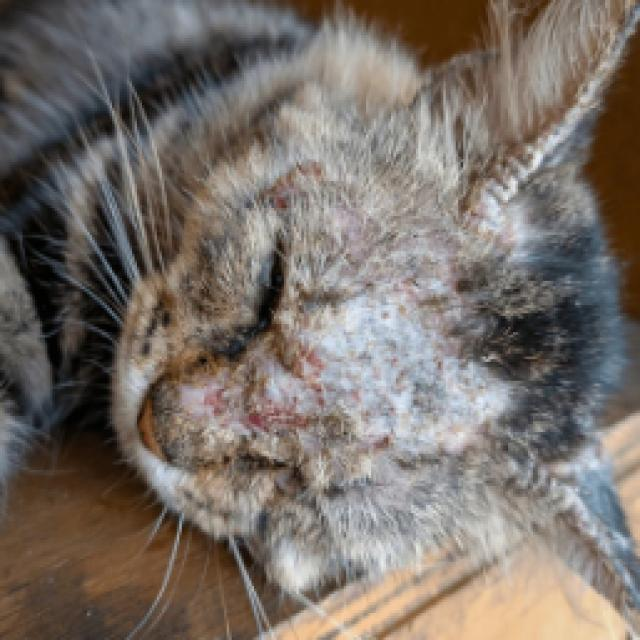Mange: (466, 13, 624, 231), (314, 295, 520, 445), (551, 468, 627, 564), (332, 220, 410, 274), (257, 170, 302, 226), (258, 395, 319, 436), (285, 338, 336, 387), (202, 378, 242, 422)
